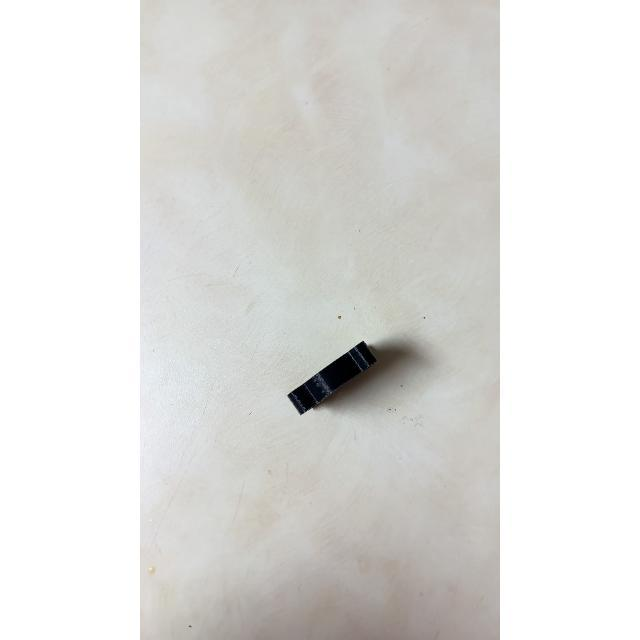Pieza4: (268, 328, 384, 428)
